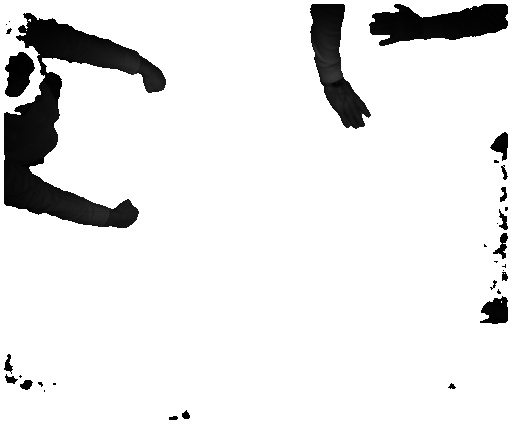fist: (112, 195, 143, 231), (141, 65, 167, 95)
hand: (325, 84, 375, 135), (368, 5, 425, 47)
